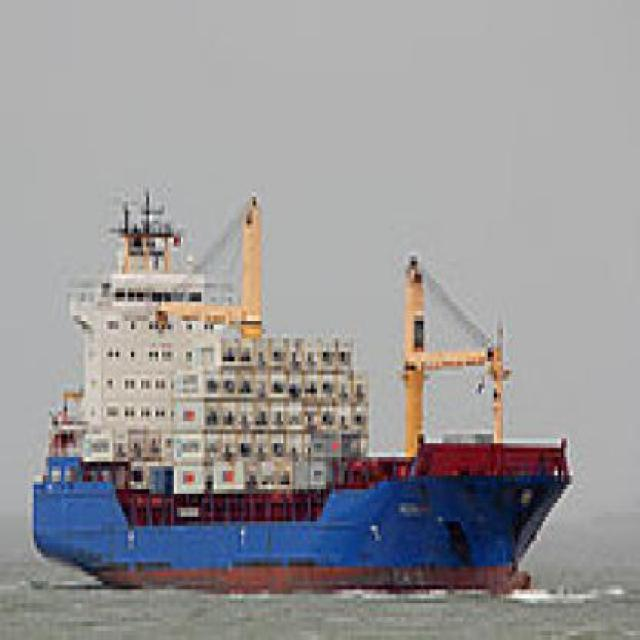container: (28, 179, 580, 605)
